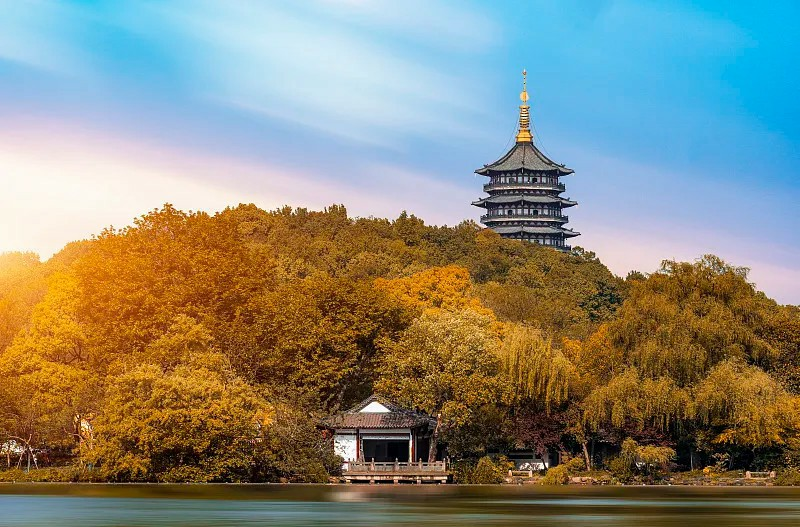Leifeng: (469, 68, 580, 255)
